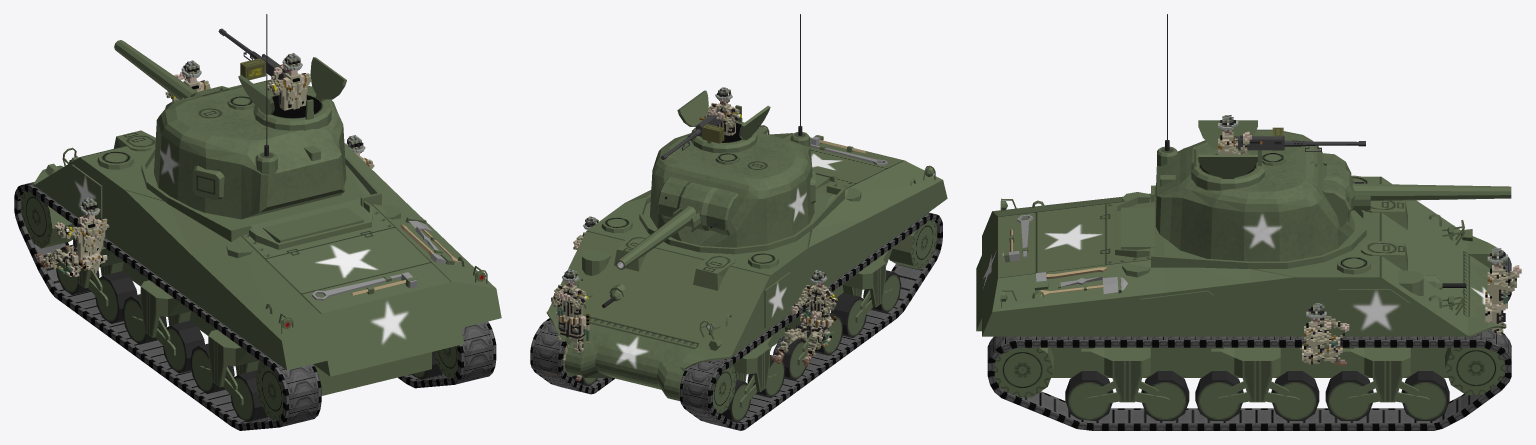
3 renders of one model, left to right at view 1: azimuth 30°, elevation 25°; view 2: azimuth 150°, elevation 25°; view 3: azimuth 270°, elevation 25°, orthographic. The views are drawn at different scales.
Visible parts, largest first — view 1: 00_chassis_m4_75_chassis.mesh, 03_turret_m4_75_turret.mesh, 08_track_m4_75_track.mesh, 04_turret_m4_75_cupola.mesh, 07_track_m4_75_track.mesh, crew_soldier_SLOT_00_DRIVER, crew_soldier_SLOT_02_GUNNER, weapon_turret_0_m4_75_cannon.mesh, weapon_turret_1_m4_75_cupola_mg.mesh, crew_soldier_SLOT_03_GUNNER; view 2: 00_chassis_m4_75_chassis.mesh, 03_turret_m4_75_turret.mesh, 08_track_m4_75_track.mesh, crew_soldier_SLOT_00_DRIVER, 07_track_m4_75_track.mesh, 04_turret_m4_75_cupola.mesh, crew_soldier_SLOT_03_GUNNER, weapon_turret_0_m4_75_cannon.mesh, crew_soldier_SLOT_02_GUNNER, weapon_turret_1_m4_75_cupola_mg.mesh; view 3: 00_chassis_m4_75_chassis.mesh, 07_track_m4_75_track.mesh, 03_turret_m4_75_turret.mesh, 04_turret_m4_75_cupola.mesh, weapon_turret_0_m4_75_cannon.mesh, crew_soldier_SLOT_01_GUNNER, crew_soldier_SLOT_03_GUNNER, weapon_turret_1_m4_75_cupola_mg.mesh, crew_soldier_SLOT_02_GUNNER.
Boxes of the visible parts, x1=… form: 00_chassis_m4_75_chassis.mesh: x1=33, y1=130, x2=501, y2=421; 03_turret_m4_75_turret.mesh: x1=154, y1=14, x2=346, y2=219; 08_track_m4_75_track.mesh: x1=14, y1=182, x2=321, y2=430; 04_turret_m4_75_cupola.mesh: x1=238, y1=57, x2=346, y2=130; 07_track_m4_75_track.mesh: x1=398, y1=321, x2=496, y2=388; crew_soldier_SLOT_00_DRIVER: x1=36, y1=197, x2=109, y2=276; crew_soldier_SLOT_02_GUNNER: x1=267, y1=53, x2=311, y2=110; weapon_turret_0_m4_75_cannon.mesh: x1=114, y1=40, x2=196, y2=99; weapon_turret_1_m4_75_cupola_mg.mesh: x1=218, y1=28, x2=288, y2=80; crew_soldier_SLOT_03_GUNNER: x1=165, y1=60, x2=210, y2=101; 00_chassis_m4_75_chassis.mesh: x1=546, y1=125, x2=947, y2=422; 03_turret_m4_75_turret.mesh: x1=650, y1=14, x2=815, y2=247; 08_track_m4_75_track.mesh: x1=680, y1=212, x2=942, y2=430; crew_soldier_SLOT_00_DRIVER: x1=771, y1=270, x2=837, y2=366; 07_track_m4_75_track.mesh: x1=530, y1=318, x2=614, y2=394; 04_turret_m4_75_cupola.mesh: x1=677, y1=90, x2=770, y2=153; crew_soldier_SLOT_03_GUNNER: x1=551, y1=269, x2=590, y2=380; weapon_turret_0_m4_75_cannon.mesh: x1=616, y1=206, x2=695, y2=269; crew_soldier_SLOT_02_GUNNER: x1=704, y1=87, x2=741, y2=135; weapon_turret_1_m4_75_cupola_mg.mesh: x1=660, y1=109, x2=726, y2=159; 00_chassis_m4_75_chassis.mesh: x1=976, y1=175, x2=1507, y2=420; 07_track_m4_75_track.mesh: x1=987, y1=329, x2=1511, y2=430; 03_turret_m4_75_turret.mesh: x1=1155, y1=14, x2=1370, y2=261; 04_turret_m4_75_cupola.mesh: x1=1191, y1=120, x2=1264, y2=190; weapon_turret_0_m4_75_cannon.mesh: x1=1352, y1=183, x2=1511, y2=200; crew_soldier_SLOT_01_GUNNER: x1=1299, y1=303, x2=1349, y2=365; crew_soldier_SLOT_03_GUNNER: x1=1485, y1=248, x2=1521, y2=335; weapon_turret_1_m4_75_cupola_mg.mesh: x1=1233, y1=127, x2=1365, y2=151; crew_soldier_SLOT_02_GUNNER: x1=1218, y1=115, x2=1251, y2=154.
Bounding box in the file's own units: 4.69 × 5.37 × 7.52.
39 materials, 3 textured.
